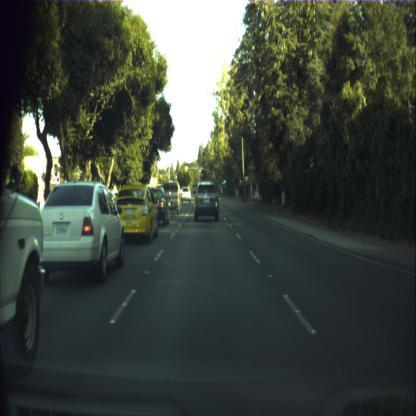Green: (224, 174, 226, 184), (199, 166, 201, 172), (222, 176, 223, 184)
Yellow: (182, 166, 184, 170)
